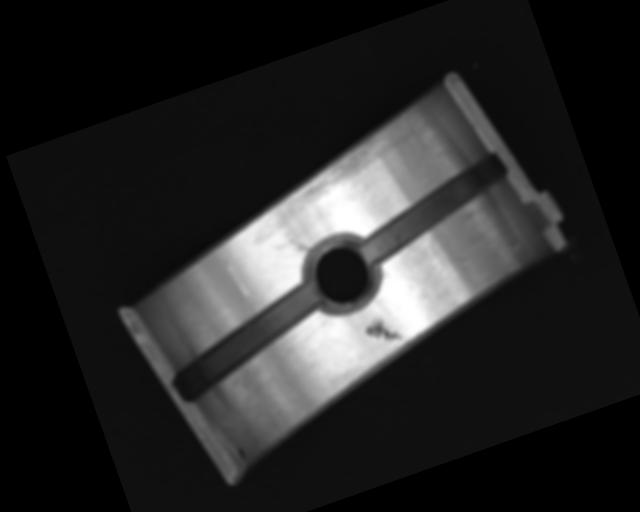blot: (236, 445, 248, 464)
bruise: (361, 310, 404, 350), (448, 252, 471, 268), (509, 241, 525, 255)
gap: (160, 280, 334, 402), (346, 152, 520, 261)
hole: (294, 226, 388, 319)
nick: (218, 239, 250, 299), (289, 234, 312, 255)
scratch: (270, 109, 429, 212)
